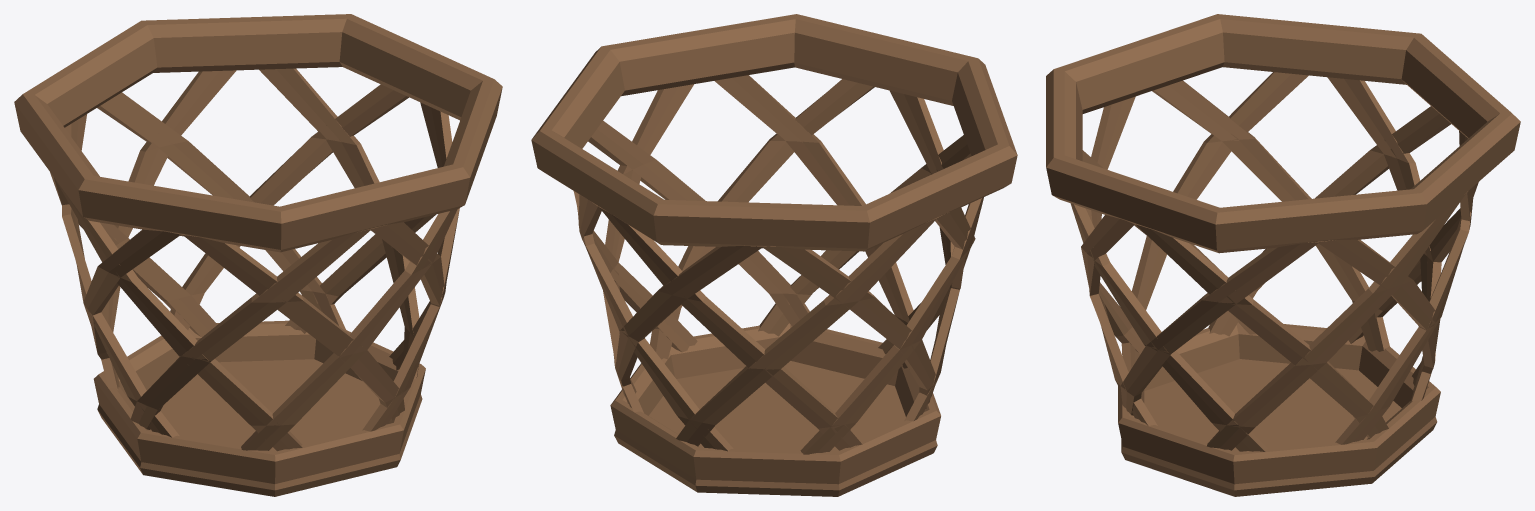
The model's file is basket.fbx.
The picture shows the model from 3 angles, left to right: view 1: azimuth 30°, elevation 25°; view 2: azimuth 150°, elevation 25°; view 3: azimuth 270°, elevation 25°; orthographic projection.
Visible parts, largest first — view 1: ClothesBasket; view 2: ClothesBasket; view 3: ClothesBasket.
Part boxes in pixels (x1=…): ClothesBasket: x1=14, y1=14, x2=502, y2=496; ClothesBasket: x1=531, y1=14, x2=1017, y2=496; ClothesBasket: x1=1046, y1=14, x2=1520, y2=496.
Bounding box in the file's own units: 0.7857 × 0.5702 × 0.766.
Materials: 1 (1 with a texture image).
